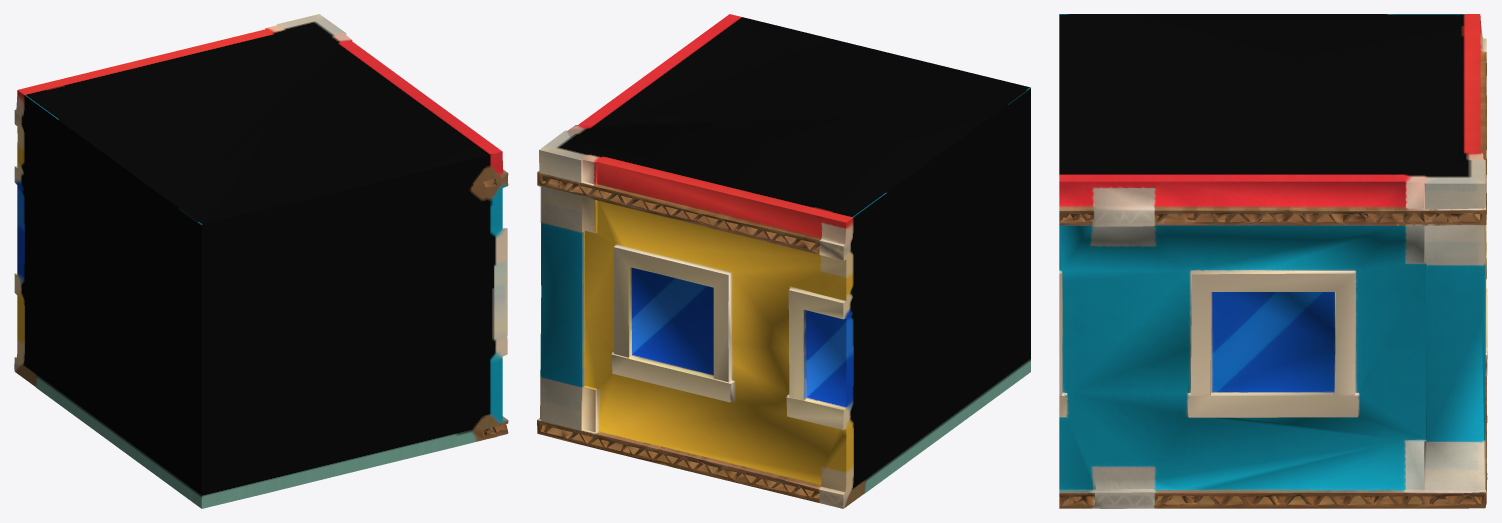
Rendered from 4-ground-floor-back-right.fbx.
The picture shows the model from 3 angles, left to right: view 1: azimuth 30°, elevation 25°; view 2: azimuth 150°, elevation 25°; view 3: azimuth 270°, elevation 25°; orthographic projection. The views are drawn at different scales.
Parts seen in each view (by area): view 1: ground-floor-back-right; view 2: ground-floor-back-right; view 3: ground-floor-back-right.
Part boxes in pixels (left/top/right/bottom): ground-floor-back-right: left=14, top=14, right=508, bottom=508; ground-floor-back-right: left=537, top=14, right=1030, bottom=508; ground-floor-back-right: left=1059, top=14, right=1487, bottom=508.
Size of the model in its own units: 4506 by 3982 by 4762.
Materials: 1 (1 with a texture image).
